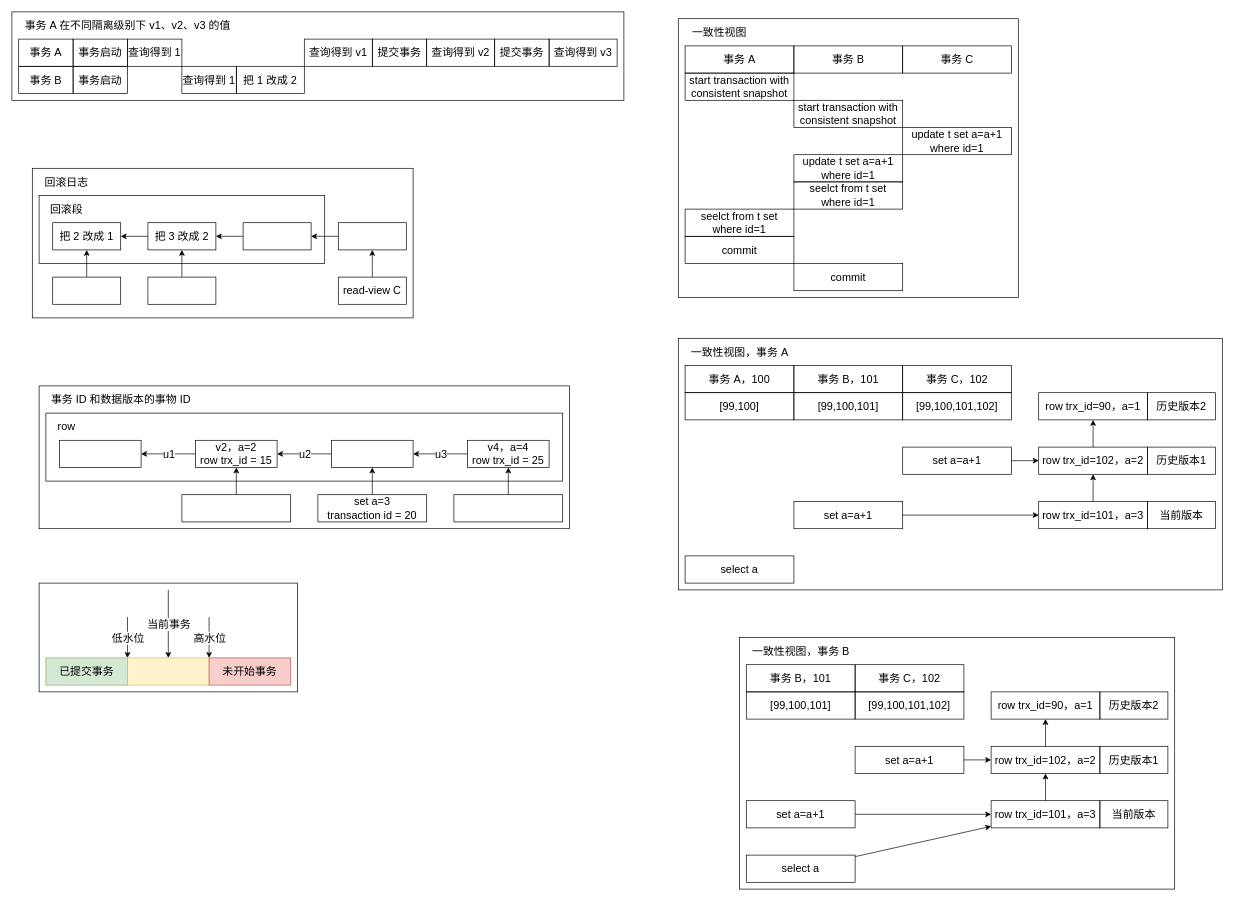
Some shapes in this 1234 by 901 pixel diagram are drawn without their labels. The shapes that lost their labels are listed below. From the top down, each one's centre as x and y in pixels, then its label:
At point (276, 236): "把 4 改成 3".
At point (372, 236): "当前为 4".
At point (86, 290): "read-view A".
At point (181, 290): "read-view B".
At point (100, 454): "v1，a=1 row trx_id = 10".
At point (372, 454): "v3，a=3 row trx_id = 20".
At point (236, 508): "set a=2 transaction id = 15".
At point (508, 508): "set a=4 transaction id = 25".
At point (168, 671): "未提交事务".
